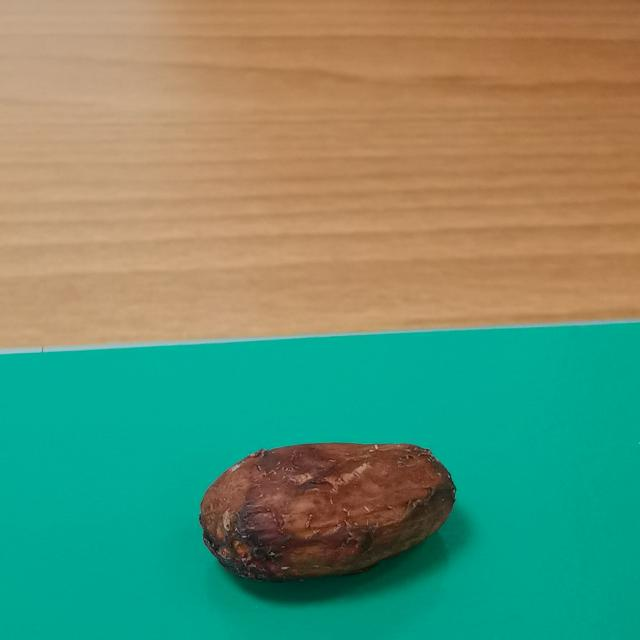Fine_cocoabeans: (105, 380, 514, 640)
